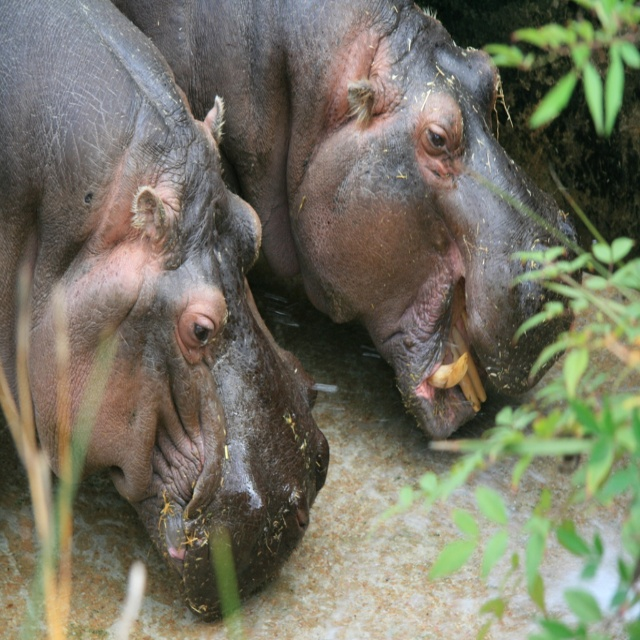Hippopotamus: (110, 1, 583, 442), (0, 0, 330, 623)
